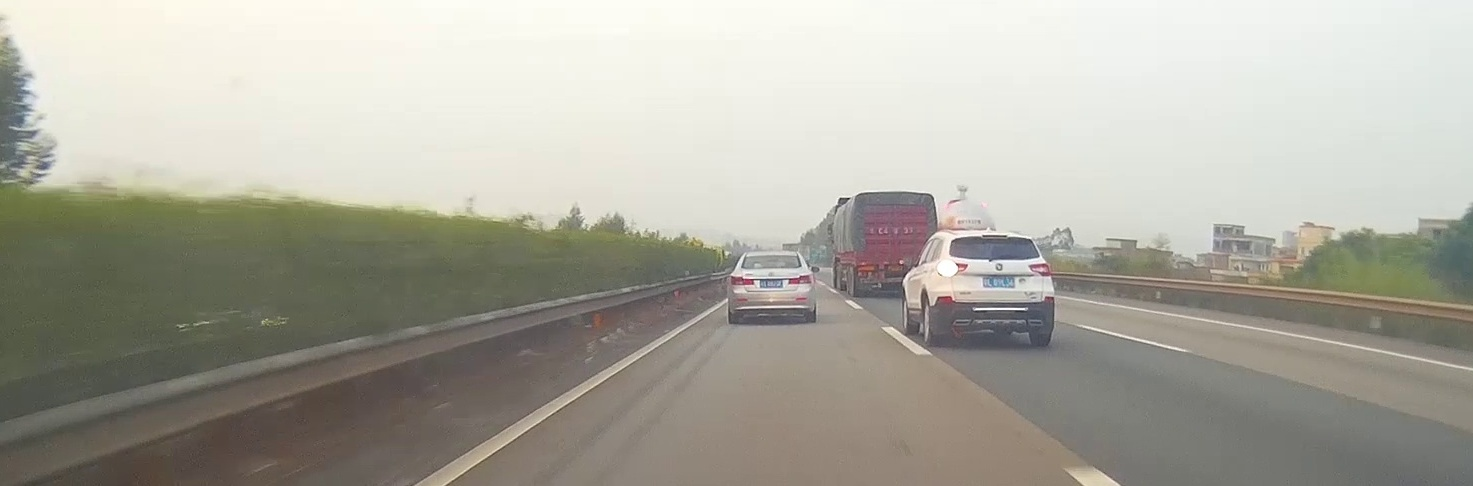L_light: (937, 260, 969, 276), (730, 276, 754, 286)
R_light: (1028, 263, 1052, 277), (788, 274, 814, 285)
T_light: (982, 234, 1007, 239), (765, 254, 778, 258)
day-left: (935, 229, 1055, 346)
day-no: (728, 251, 817, 324)
